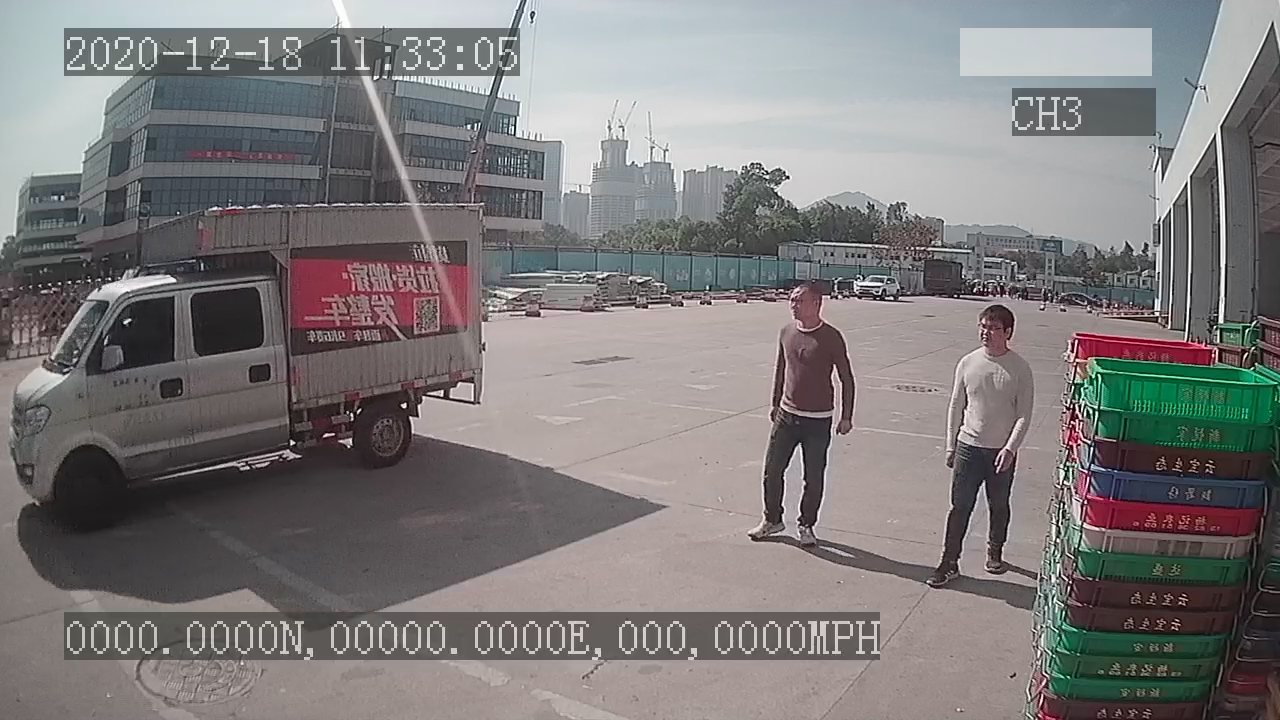person: (747, 277, 858, 546)
